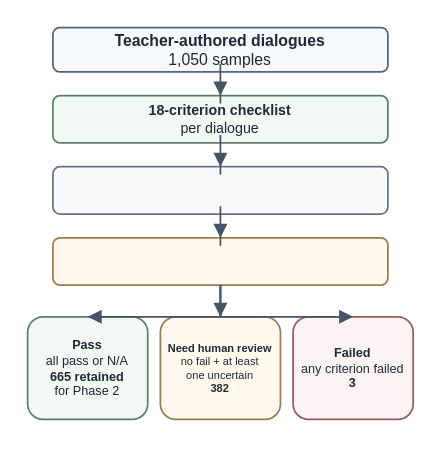
This 442x449 diagram has some shape labels left out. Here are the shapes that lost their labels. From the top down, the centre of each, then its label:
At [219,189]: "Criterion-level judgments pass | uncertain | fail | not applicable".
At [219,260]: "Strict sample-level aggregation".
